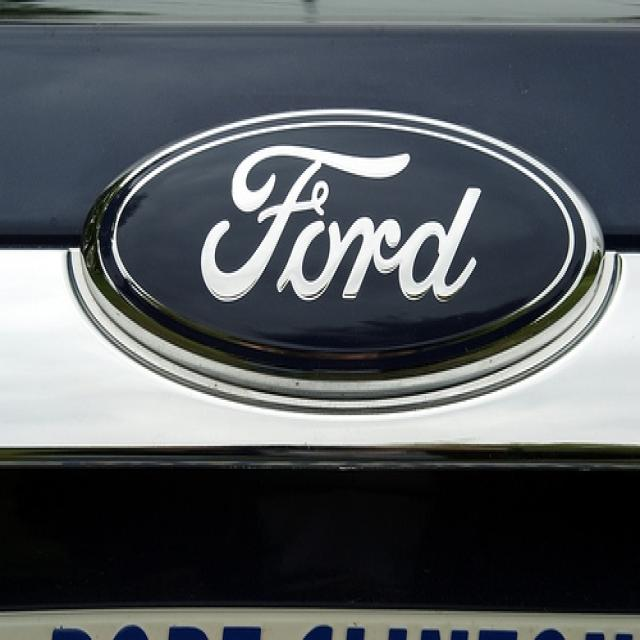ford: (105, 114, 585, 368)
